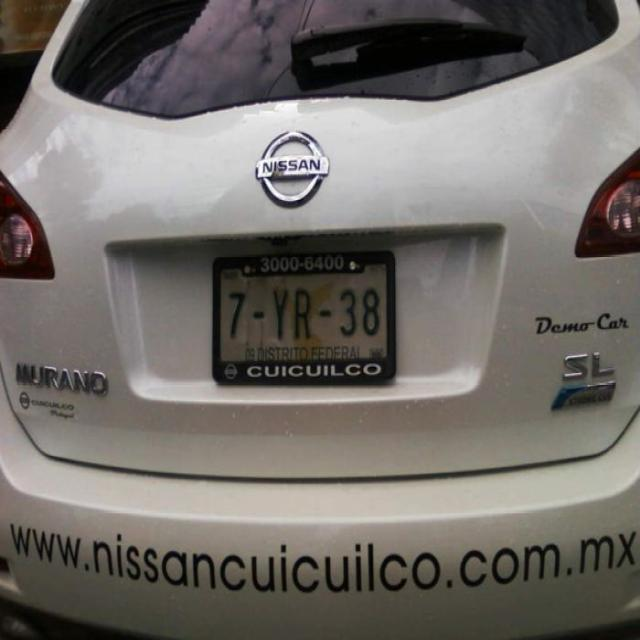placa: (221, 280, 392, 348)
